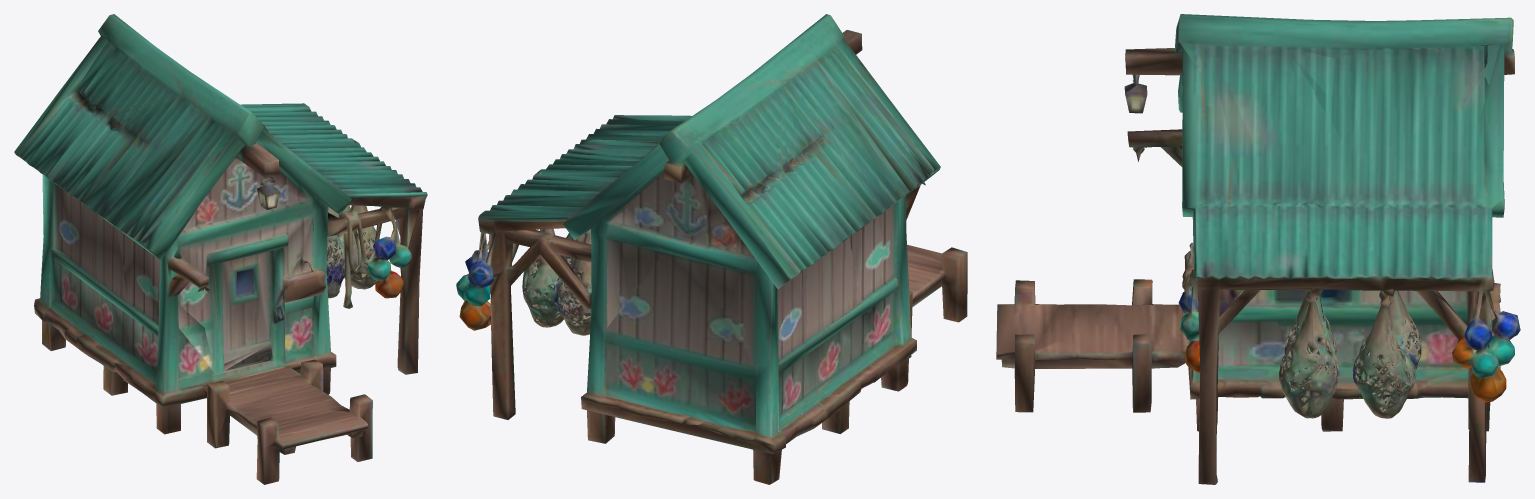
Rendered from building_expedition.glb.
3 views of the same model, side by side, from view 1: azimuth 30°, elevation 25°; view 2: azimuth 150°, elevation 25°; view 3: azimuth 270°, elevation 25° (orthographic). The views are drawn at different scales.
Parts seen in each view (by area): view 1: Mesh_0; view 2: Mesh_0; view 3: Mesh_0.
Part boxes in pixels (bbox=[...]): Mesh_0: bbox=[14, 14, 427, 484]; Mesh_0: bbox=[456, 14, 967, 484]; Mesh_0: bbox=[996, 14, 1520, 484].
Size of the model in its own units: 1.55 by 1.48 by 1.91.
Materials: 1 (1 with a texture image).
